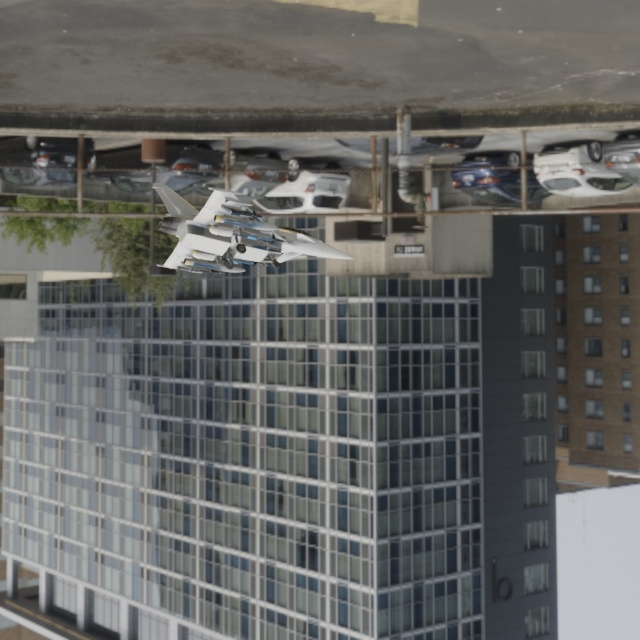eurofighter_typhoon_3d: (128, 138, 394, 314)
